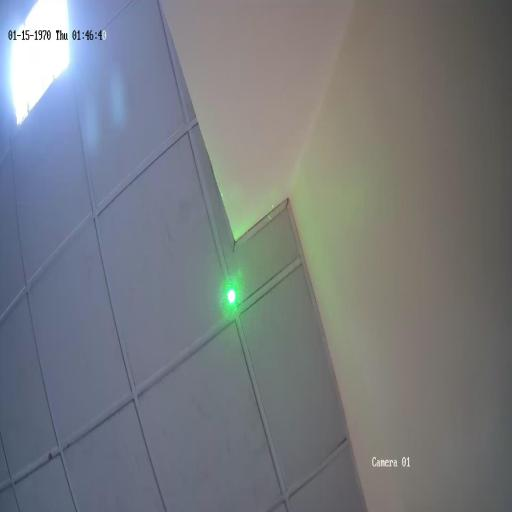laser: (220, 274, 246, 323)
